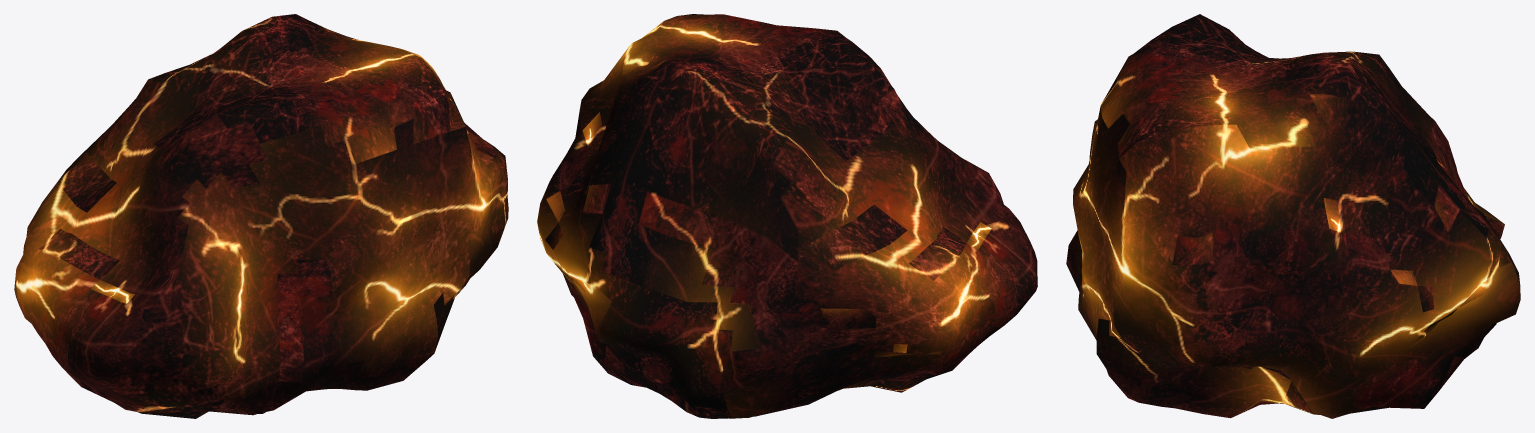
File: rock.glb
The picture shows the model from 3 angles, left to right: view 1: azimuth 30°, elevation 25°; view 2: azimuth 150°, elevation 25°; view 3: azimuth 270°, elevation 25°; orthographic projection. The views are drawn at different scales.
Visible parts, largest first — view 1: Object_2; view 2: Object_2; view 3: Object_2.
Boxes of the visible parts, x1,y1,x2,y2 form: Object_2: (14, 14, 508, 418); Object_2: (537, 14, 1037, 418); Object_2: (1066, 14, 1520, 418).
Size of the model in its own units: 3.55 by 2.48 by 2.94.
1 material, 1 textured.
